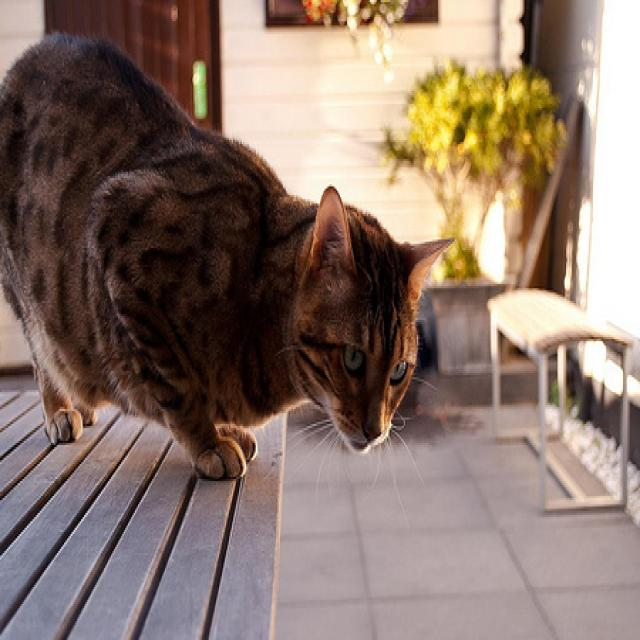Bengal: (0, 19, 458, 513)
